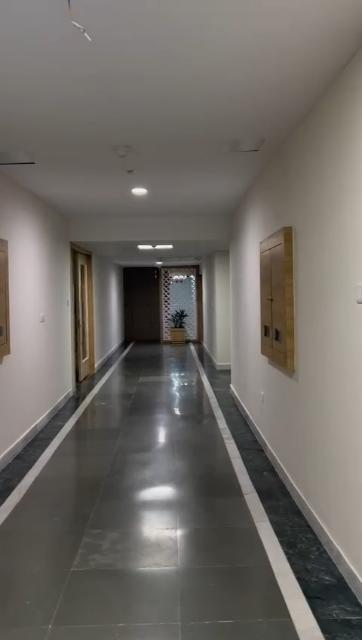door: (260, 228, 298, 370), (68, 259, 94, 377), (0, 236, 10, 358)
floor: (0, 343, 361, 640)
object: (168, 308, 190, 344)
wall: (227, 48, 361, 585), (14, 238, 70, 394), (0, 178, 90, 236), (0, 362, 58, 404), (205, 264, 229, 352), (95, 260, 115, 350), (0, 408, 40, 424)
